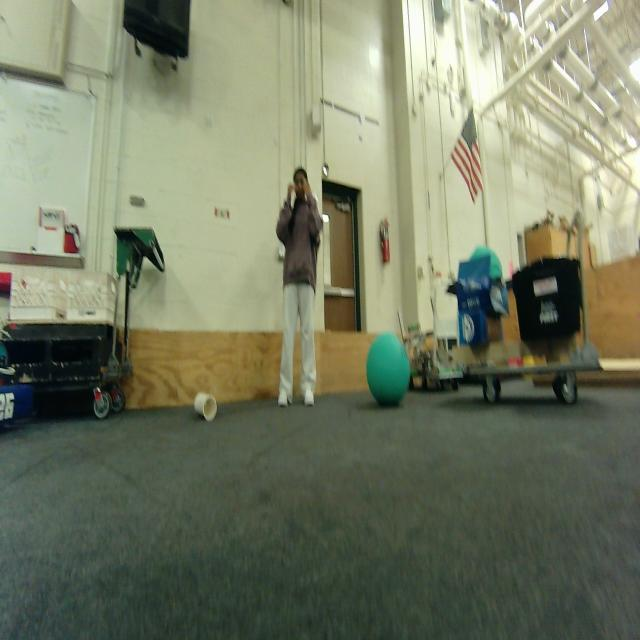algae: (366, 322, 414, 407)
coral: (194, 391, 218, 422)
